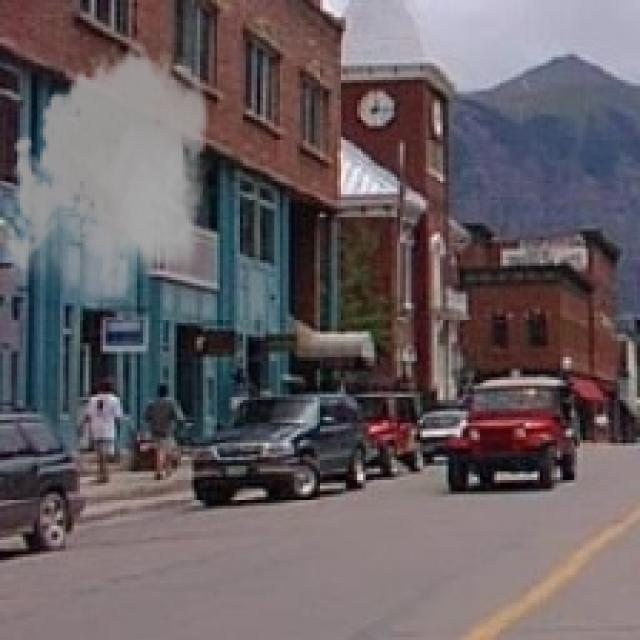smoke: (0, 34, 217, 317)
